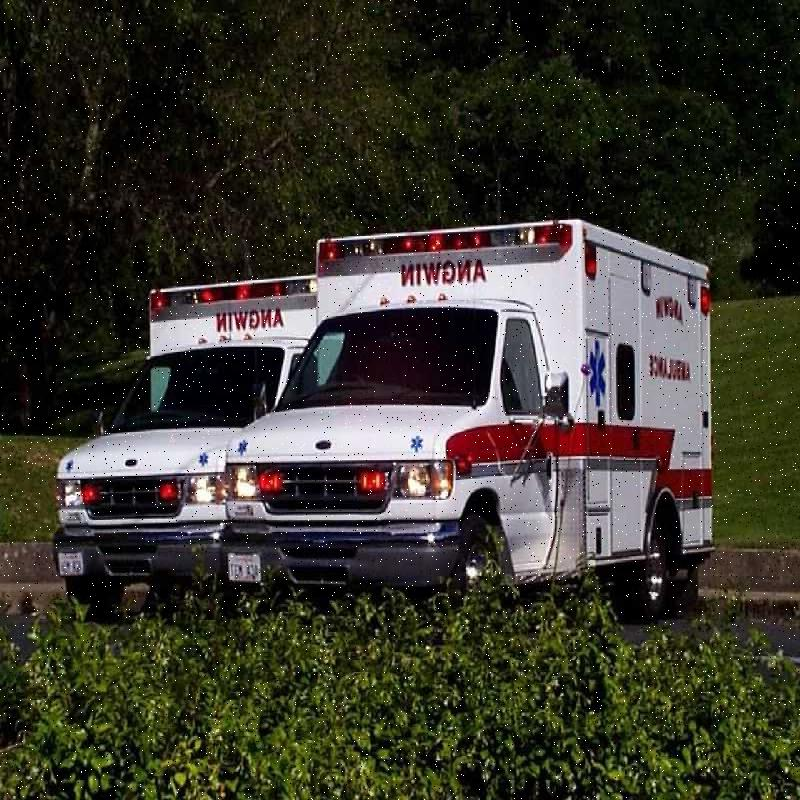AmbulanceSiren: (315, 196, 588, 278), (138, 270, 338, 318)
